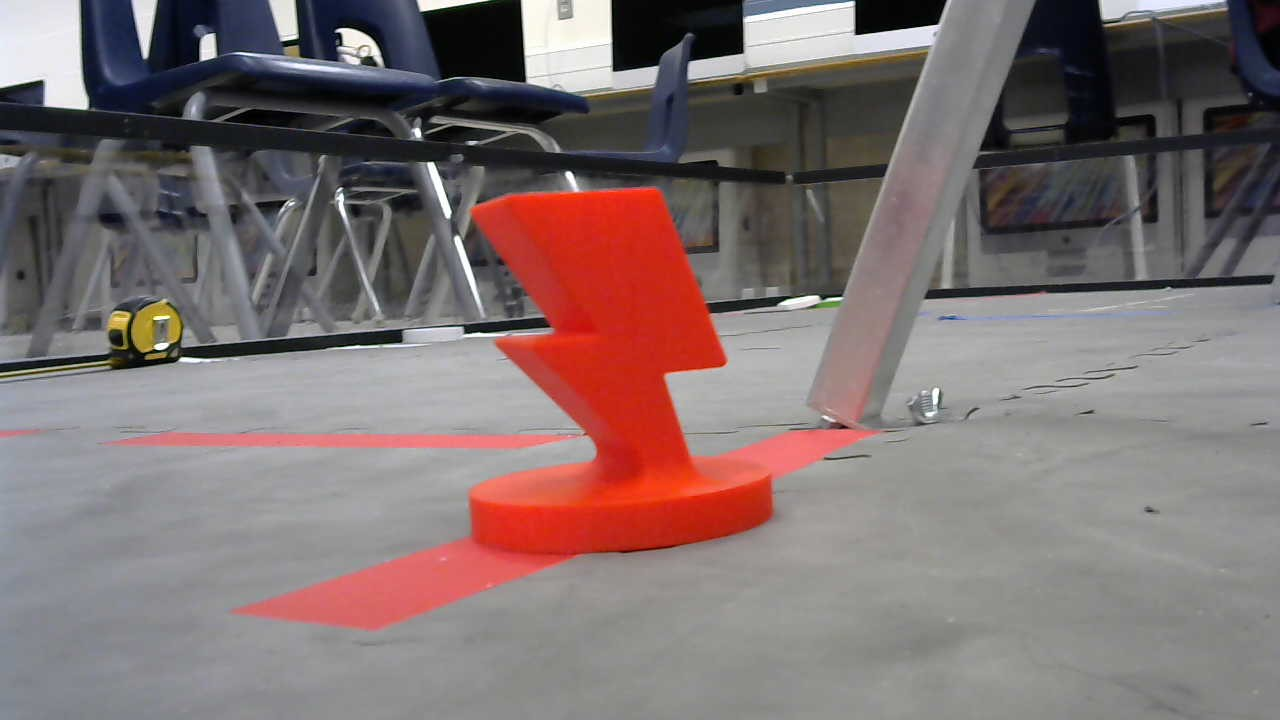redobject: (462, 180, 781, 556)
